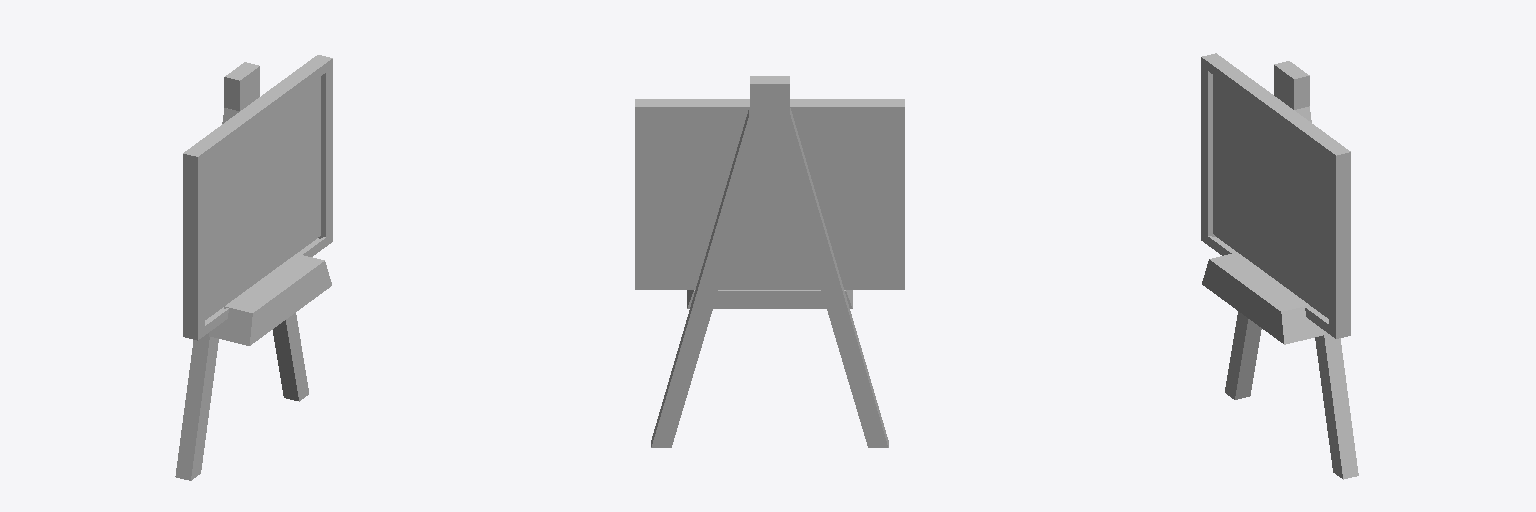
The model's file is Pizarron.obj.
3 views of the same model, side by side, from view 1: azimuth 30°, elevation 25°; view 2: azimuth 150°, elevation 25°; view 3: azimuth 270°, elevation 25° (orthographic).
Visible parts, largest first — view 1: Pizarron_Plane; view 2: Pizarron_Plane; view 3: Pizarron_Plane.
Boxes of the visible parts, x1=… form: Pizarron_Plane: x1=175, y1=55, x2=332, y2=480; Pizarron_Plane: x1=635, y1=76, x2=904, y2=447; Pizarron_Plane: x1=1201, y1=53, x2=1358, y2=479.
Bounding box in the file's own units: 10.54 × 17.47 × 6.85.